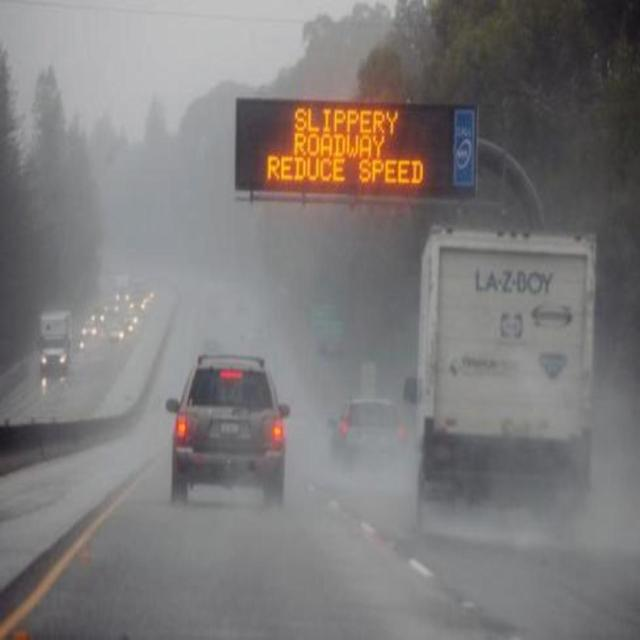bus: (409, 230, 595, 543), (38, 311, 72, 376), (113, 276, 129, 305)
car: (166, 357, 292, 504), (335, 397, 405, 455), (80, 320, 98, 338), (108, 326, 126, 342)
